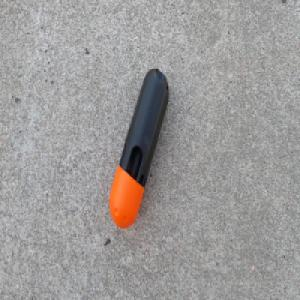PlasticPart: (108, 66, 170, 229)
